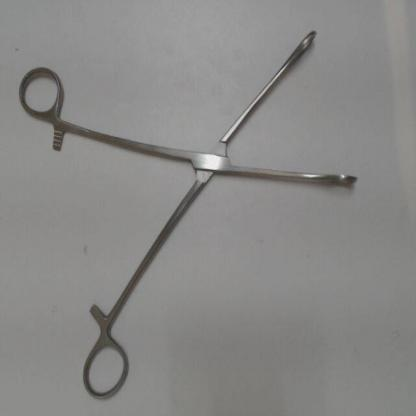Sponge Forceps: (12, 18, 366, 405)
